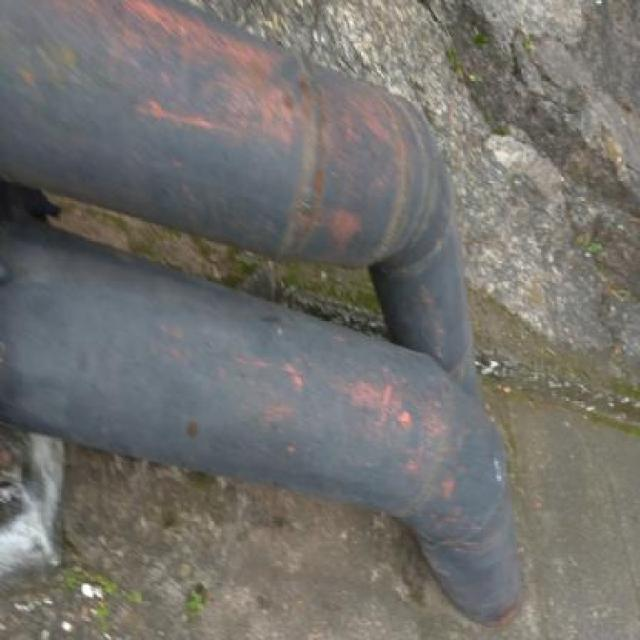gas: (3, 229, 526, 630), (1, 0, 481, 410)
